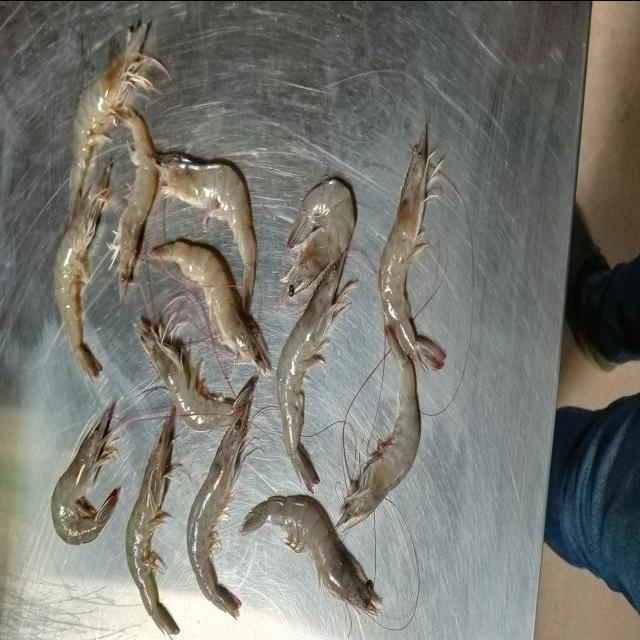shrimp: (282, 264, 364, 501), (79, 33, 179, 215), (342, 337, 428, 538), (192, 385, 264, 625), (246, 503, 382, 627), (158, 248, 278, 383), (385, 140, 452, 381), (162, 162, 264, 319), (62, 171, 120, 383), (131, 414, 184, 640), (142, 323, 240, 439), (58, 410, 126, 547), (118, 118, 168, 301), (286, 191, 362, 310)
